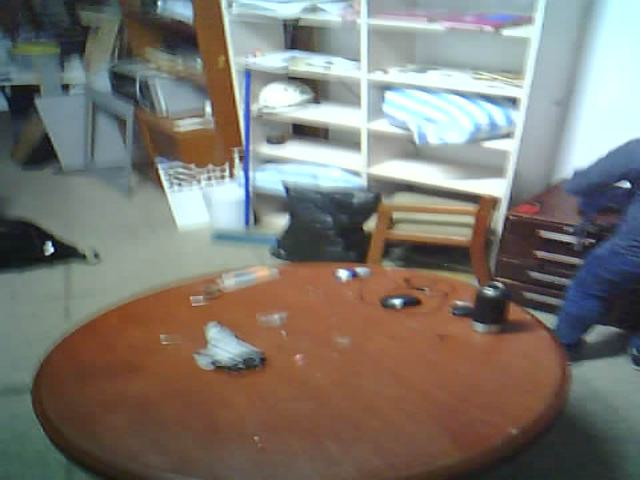person: (534, 106, 640, 385)
